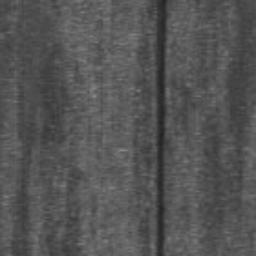Scratches: (156, 0, 167, 256)
